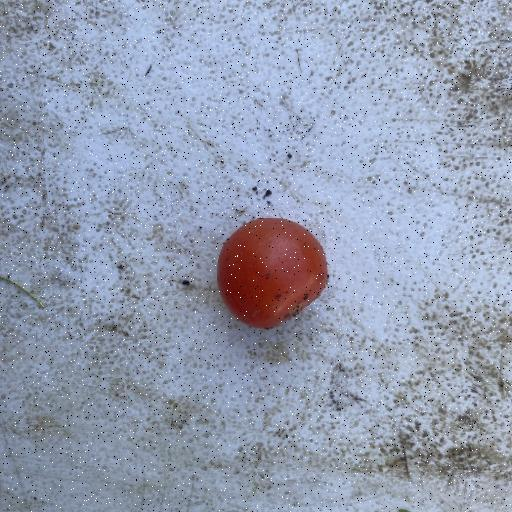Waste: (1, 1, 510, 510), (214, 216, 330, 330)
